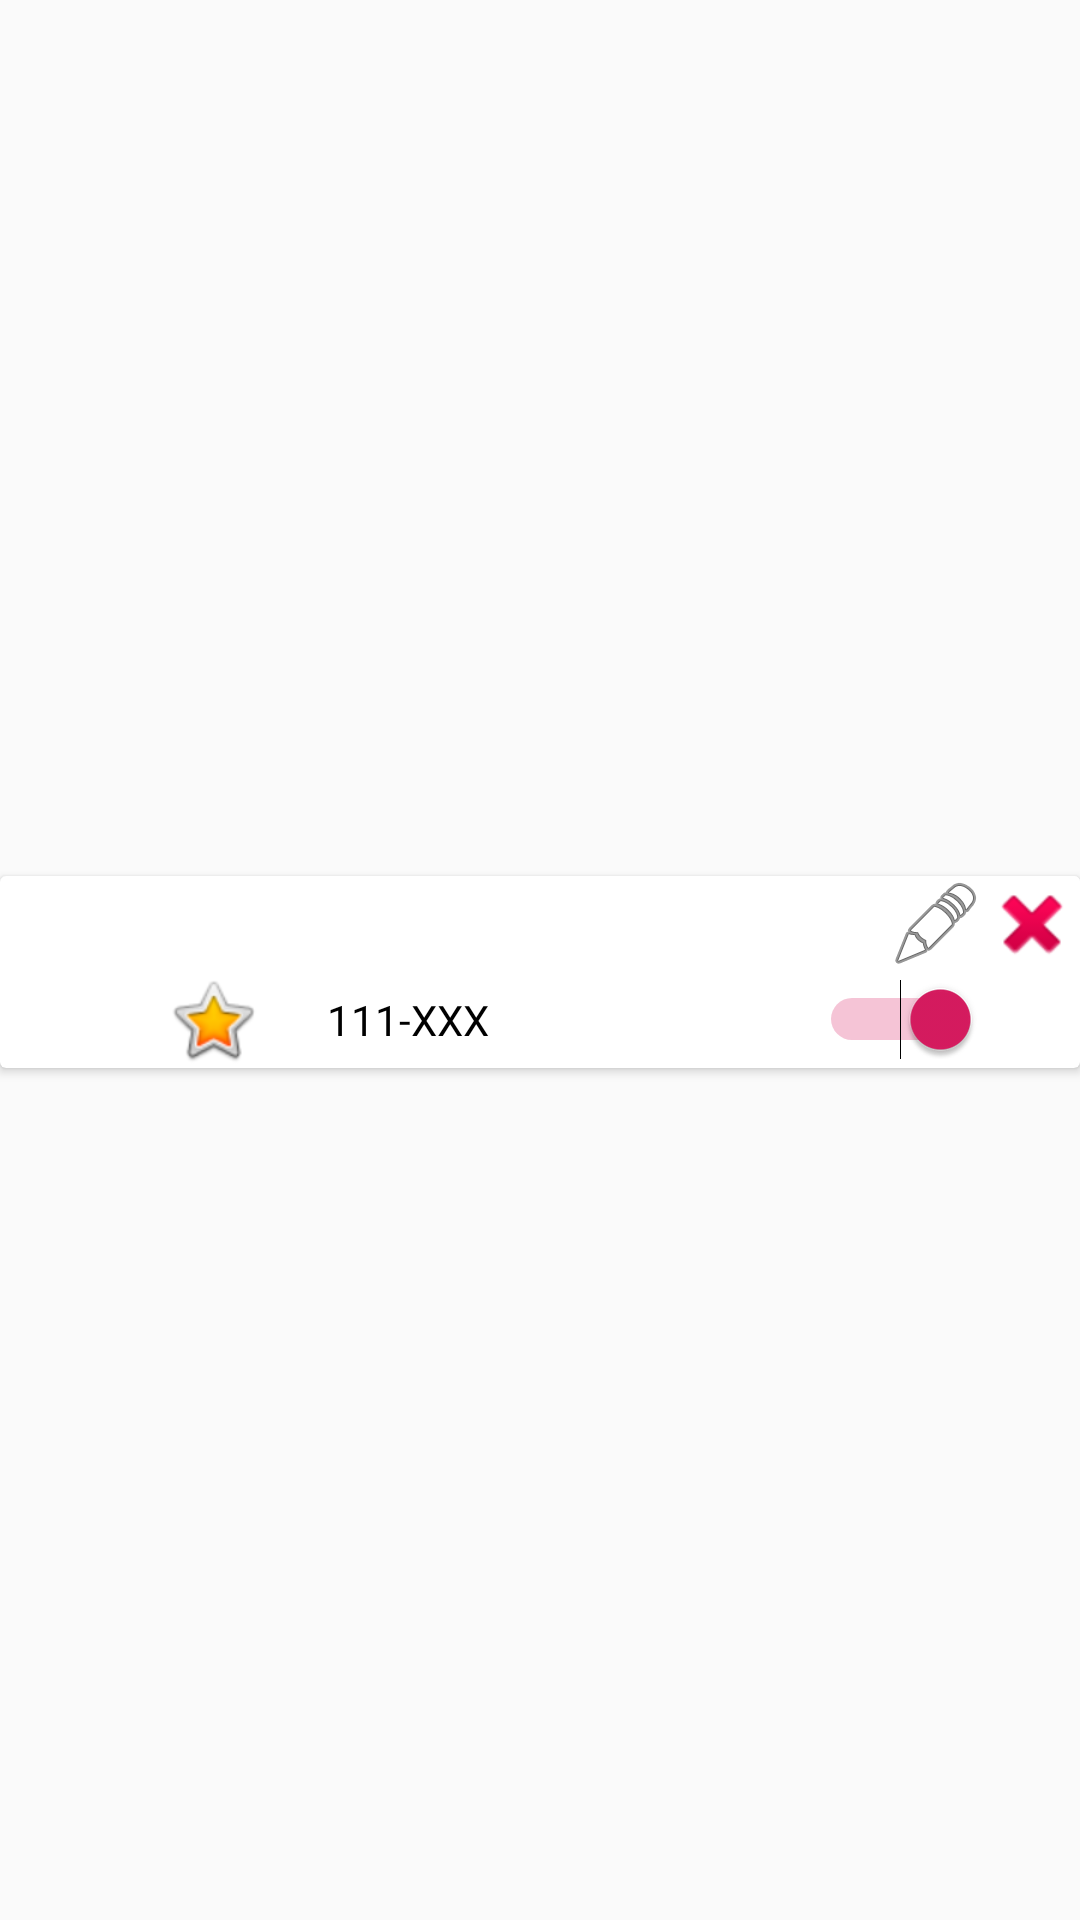

Icon bounding boxes for this 1080*1920 phone screenshot, format rect(x1, y1, x2, y2):
delete: rect(1001, 895, 1063, 954)
edit: rect(895, 883, 976, 964)
star on: rect(174, 982, 254, 1060)
